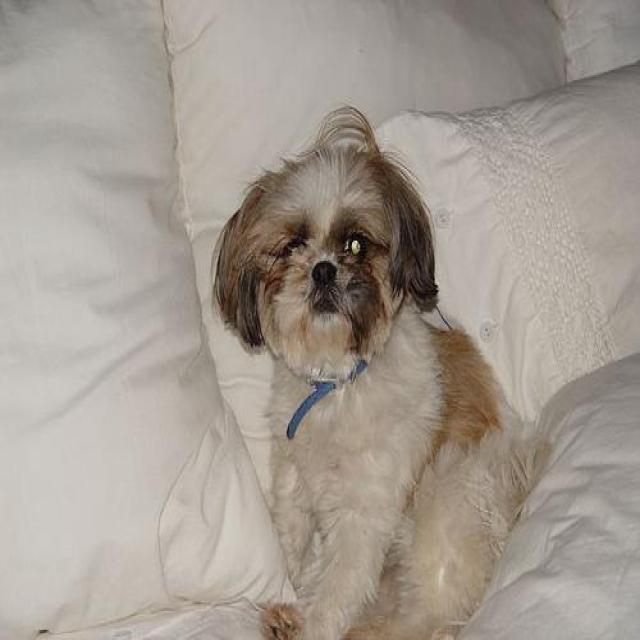shih_tzu: (210, 106, 552, 638)
